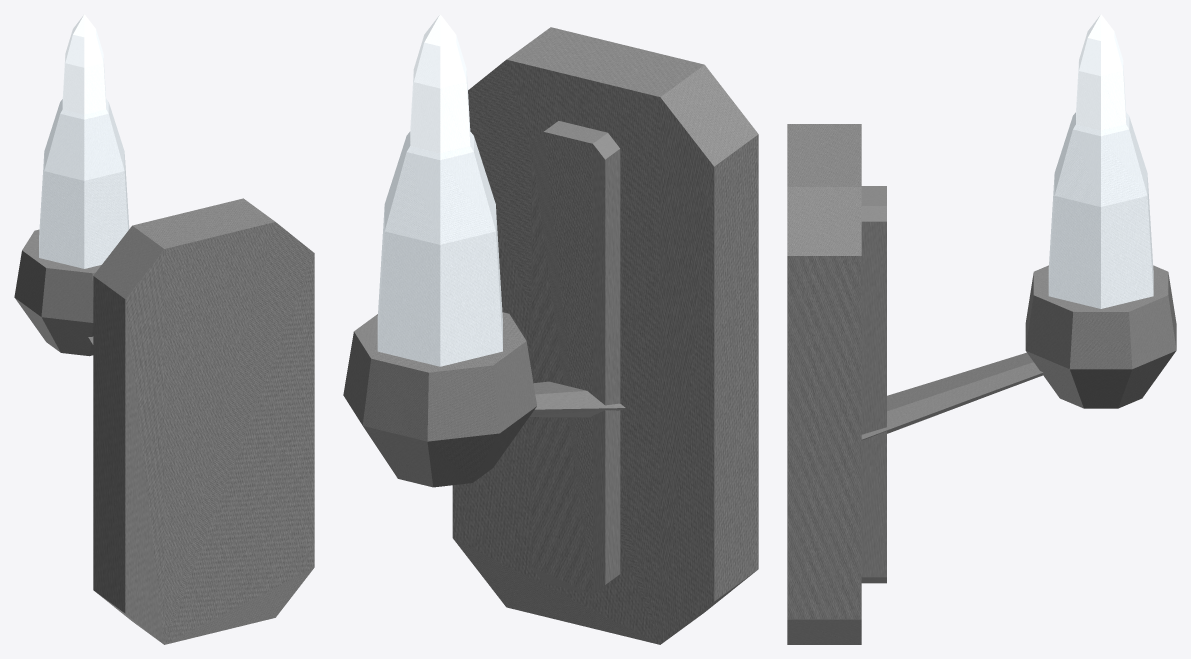
The model's file is decor-crystal-wall-sconce.glb.
3 views of the same model, side by side, from view 1: azimuth 30°, elevation 25°; view 2: azimuth 150°, elevation 25°; view 3: azimuth 270°, elevation 25° (orthographic). The views are drawn at different scales.
Visible parts, largest first — view 1: wall-plate, lamp-crystal, socket, lamp-tip; view 2: wall-plate, vertical-band, lamp-crystal, socket, lamp-tip, bracket; view 3: wall-plate, lamp-crystal, socket, vertical-band, bracket, lamp-tip.
Part boxes in pixels (left/top/right/bottom): wall-plate: left=93, top=198, right=314, bottom=644; lamp-crystal: left=39, top=99, right=129, bottom=268; socket: left=14, top=229, right=101, bottom=356; lamp-tip: left=62, top=14, right=106, bottom=114; wall-plate: left=452, top=27, right=758, bottom=644; vertical-band: left=531, top=121, right=620, bottom=594; lamp-crystal: left=377, top=131, right=502, bottom=366; socket: left=343, top=312, right=536, bottom=487; lamp-tip: left=410, top=14, right=470, bottom=153; bracket: left=529, top=381, right=625, bottom=417; wall-plate: left=787, top=124, right=861, bottom=644; lamp-crystal: left=1048, top=112, right=1153, bottom=308; socket: left=1025, top=265, right=1176, bottom=408; vertical-band: left=861, top=186, right=886, bottom=583; bracket: left=861, top=352, right=1043, bottom=440; lamp-tip: left=1076, top=14, right=1126, bottom=130.
Bounding box in the file's own units: 0.17 × 0.445 × 0.2618.
Materials: 6 (6 with a texture image).
